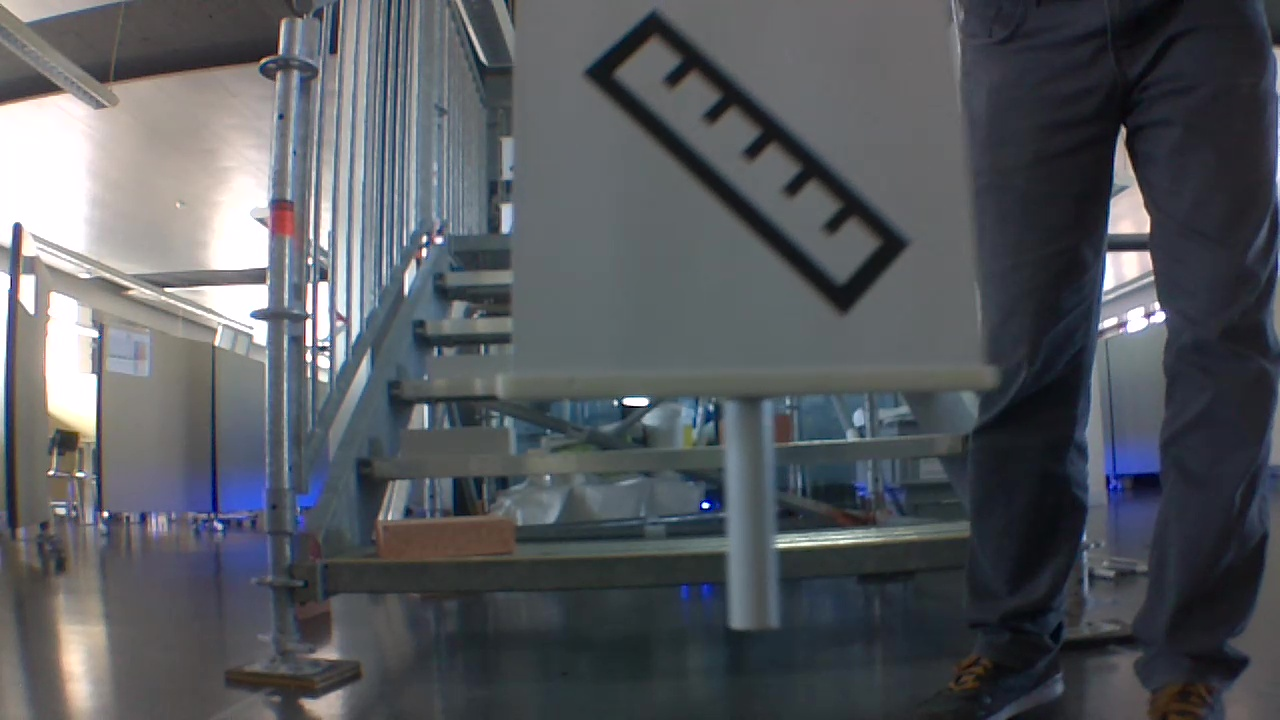brick: (378, 515, 516, 554), (401, 429, 508, 452), (424, 353, 508, 375)
edge: (326, 537, 991, 597), (359, 430, 966, 478)
ruler: (576, 9, 915, 344)
